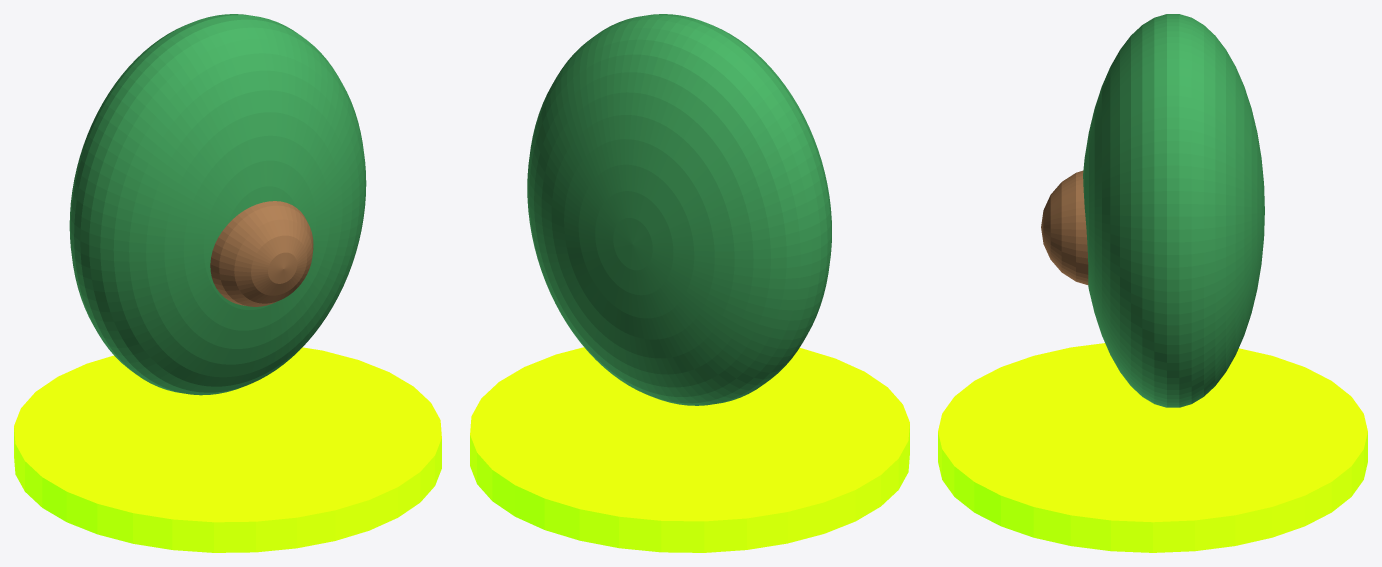
The model's file is food_avocado.glb.
The picture shows the model from 3 angles, left to right: view 1: azimuth 30°, elevation 25°; view 2: azimuth 150°, elevation 25°; view 3: azimuth 270°, elevation 25°; orthographic projection. The views are drawn at different scales.
Visible parts, largest first — view 1: 01_15_Popular_Food_Avocado_part_01, 01_15_Popular_Food_Avocado_ROOT_base, 01_15_Popular_Food_Avocado_part_03; view 2: 01_15_Popular_Food_Avocado_part_01, 01_15_Popular_Food_Avocado_ROOT_base; view 3: 01_15_Popular_Food_Avocado_ROOT_base, 01_15_Popular_Food_Avocado_part_01, 01_15_Popular_Food_Avocado_part_03.
Boxes of the visible parts, left/top/right/bottom form: 01_15_Popular_Food_Avocado_part_01: left=69, top=14, right=366, bottom=395; 01_15_Popular_Food_Avocado_ROOT_base: left=14, top=347, right=441, bottom=552; 01_15_Popular_Food_Avocado_part_03: left=210, top=201, right=313, bottom=306; 01_15_Popular_Food_Avocado_part_01: left=527, top=14, right=831, bottom=405; 01_15_Popular_Food_Avocado_ROOT_base: left=470, top=347, right=909, bottom=552; 01_15_Popular_Food_Avocado_ROOT_base: left=938, top=343, right=1367, bottom=552; 01_15_Popular_Food_Avocado_part_01: left=1083, top=14, right=1264, bottom=407; 01_15_Popular_Food_Avocado_part_03: left=1041, top=170, right=1088, bottom=284.
Size of the model in its own units: 0.76 by 0.85 by 0.76.
